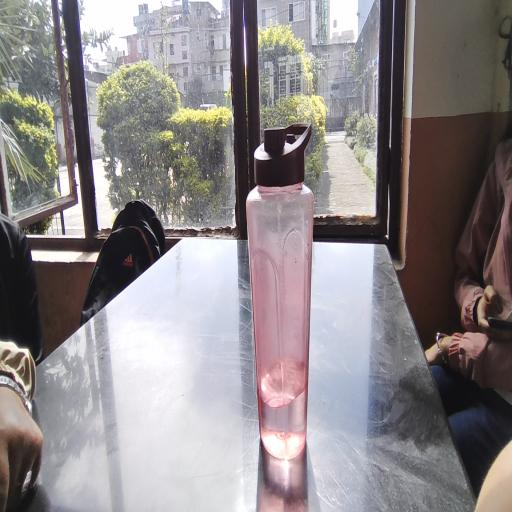Bottle: (238, 100, 331, 449)
